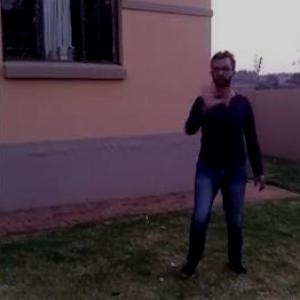follow_hand: (189, 75, 224, 110)
